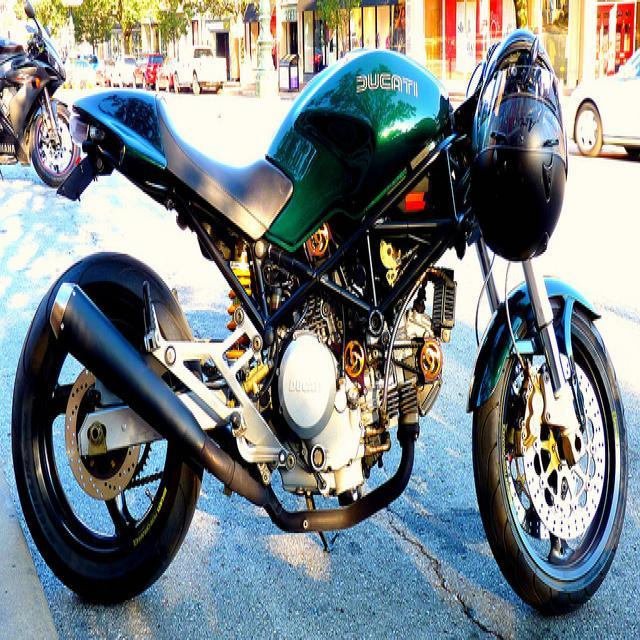motor: (12, 35, 629, 612), (1, 4, 80, 192)
